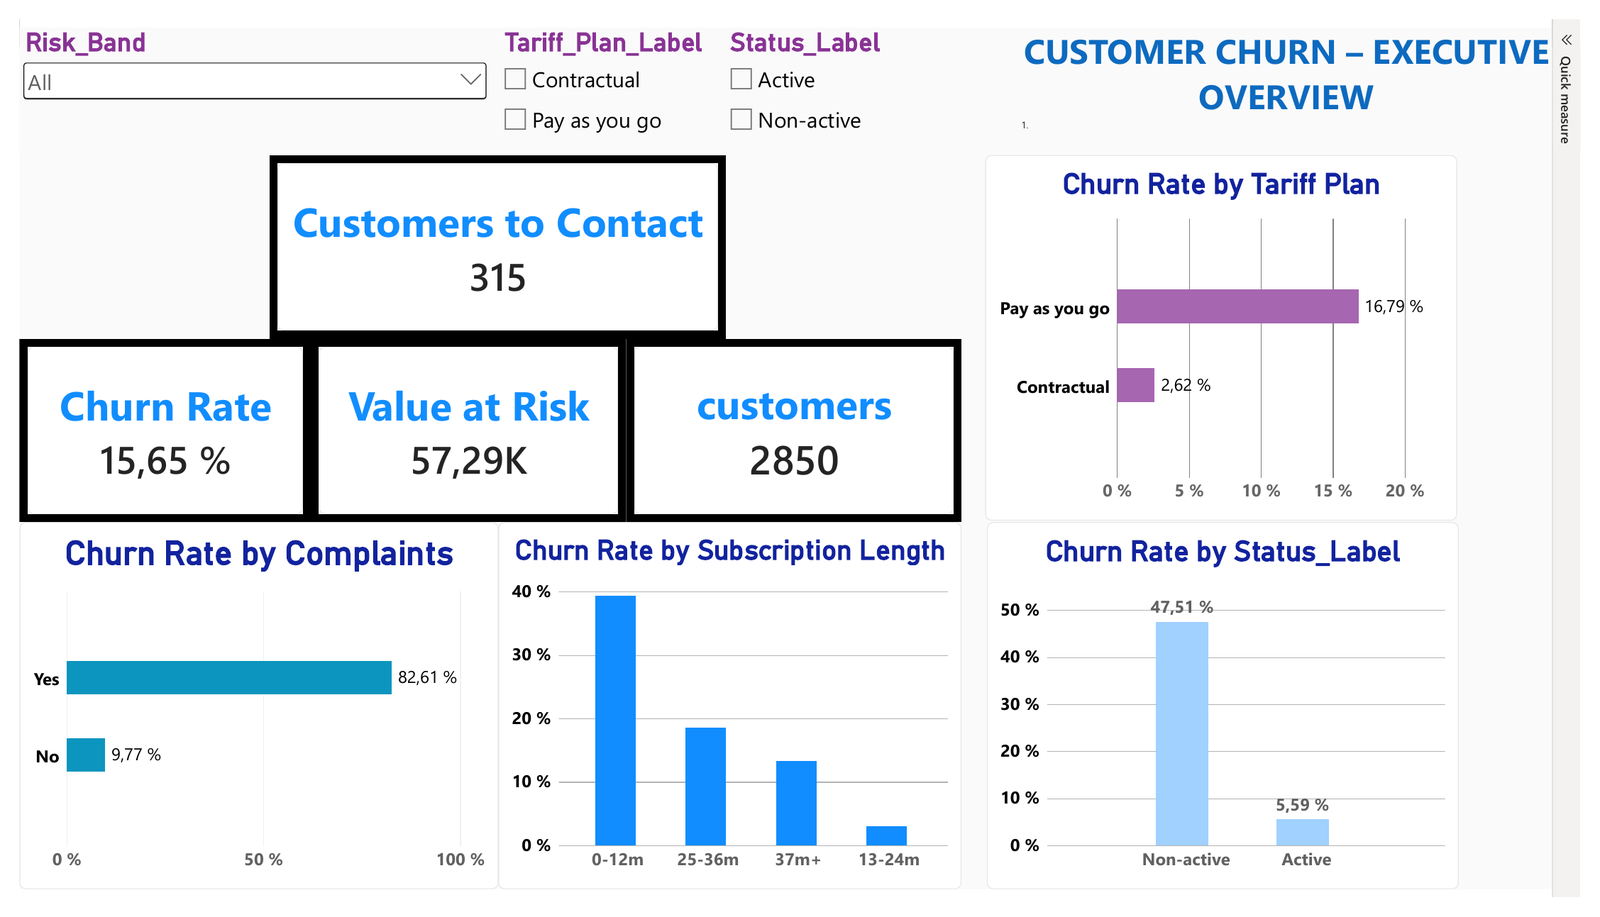

This screenshot's page, from the dashboard's own definition file:
{"tool":"powerbi","page":{"name":"Executive Overview","canvas":[1920,1080],"ordinal":0},"visuals":[{"type":"cardVisual","fields":{"Data":["churn_scored.customers"]},"box":[760,390,420,230],"z":0},{"type":"cardVisual","fields":{"Data":["churn_scored.Churn Rate"]},"box":[0,390,365,230],"z":1000},{"type":"cardVisual","fields":{"Data":["churn_scored.Value at Risk"]},"box":[365,390,395,230],"z":2000},{"type":"cardVisual","fields":{"Data":["churn_scored.Customers to Contact"]},"box":[312.5,160,572.5,230],"z":3000},{"type":"clusteredBarChart","title":"Churn Rate by Tariff Plan","fields":{"Category":["churn_scored.Tariff_Plan_Label"],"Y":["churn_scored.Churn Rate"]},"box":[1210,160,591,458],"z":4000},{"type":"clusteredBarChart","title":"Churn Rate by Complaints","fields":{"Category":["churn_scored.Complains_Label"],"Y":["churn_scored.Churn Rate"]},"box":[0,620,600,460],"z":5000},{"type":"clusteredColumnChart","title":"Churn Rate by Subscription Length","fields":{"Category":["churn_scored.Subscription_Band"],"Y":["churn_scored.Churn Rate"]},"box":[600,620,580,460],"z":6000},{"type":"clusteredColumnChart","fields":{"Category":["churn_scored.Status_Label"],"Y":["churn_scored.Churn Rate"]},"box":[1212,620,591,460],"z":7000},{"type":"slicer","fields":{"Values":["churn_scored.Risk_Band"]},"box":[0,0,590,125],"z":8000},{"type":"slicer","fields":{"Values":["churn_scored.Status_Label"]},"box":[882.5,0,596,160],"z":9000},{"type":"slicer","fields":{"Values":["churn_scored.Tariff_Plan_Label"]},"box":[600,0,580,160],"z":10000},{"type":"textbox","box":[1255,0,665,160],"z":10001}]}

Visuals, with their boxes on the page's 1920x1080 design canvas (x1, y1, x2, y2). These are canvas units, not pixel positions in the 1600x917 screenshot, which may show the page scaled, cropped or inside an application window:
cardVisual - churn_scored.customers: [760, 390, 1180, 620]
cardVisual - churn_scored.Churn Rate: [0, 390, 365, 620]
cardVisual - churn_scored.Value at Risk: [365, 390, 760, 620]
cardVisual - churn_scored.Customers to Contact: [312, 160, 885, 390]
"Churn Rate by Tariff Plan" clusteredBarChart: [1210, 160, 1801, 618]
"Churn Rate by Complaints" clusteredBarChart: [0, 620, 600, 1080]
"Churn Rate by Subscription Length" clusteredColumnChart: [600, 620, 1180, 1080]
clusteredColumnChart - churn_scored.Status_Label x churn_scored.Churn Rate: [1212, 620, 1803, 1080]
slicer - churn_scored.Risk_Band: [0, 0, 590, 125]
slicer - churn_scored.Status_Label: [882, 0, 1478, 160]
slicer - churn_scored.Tariff_Plan_Label: [600, 0, 1180, 160]
textbox: [1255, 0, 1920, 160]
